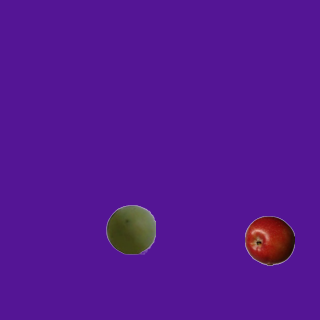Apple Braeburn: (244, 215, 294, 265)
Grape White 4: (105, 204, 155, 254)
